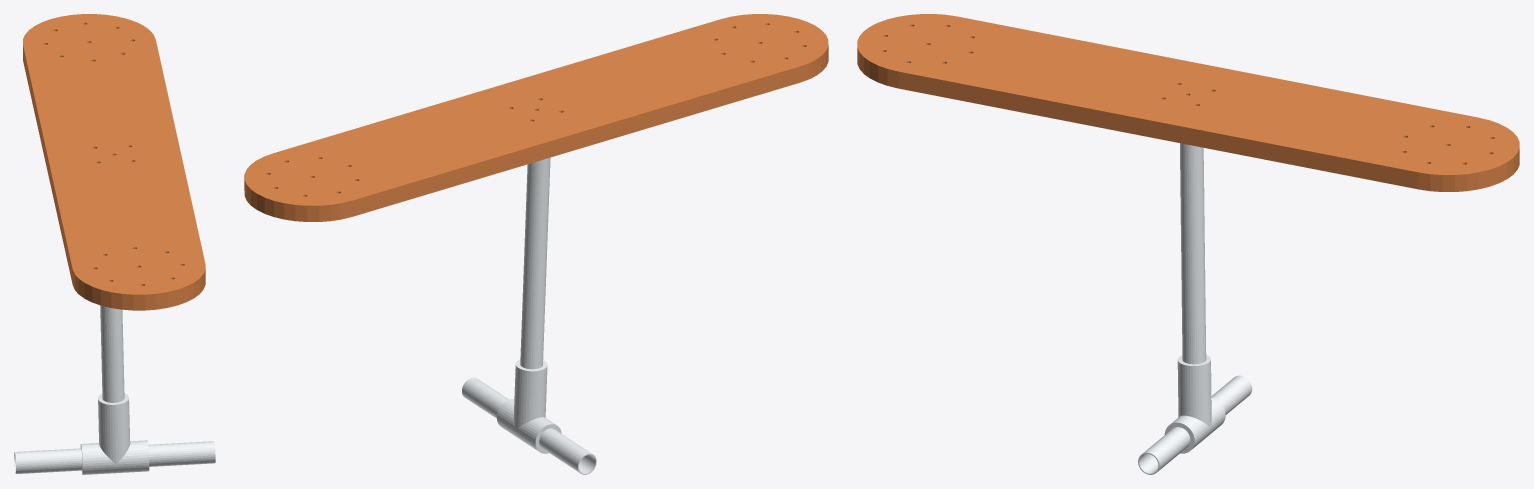
Rendered from pathmarker3.dae.
The picture shows the model from 3 angles, left to right: view 1: azimuth 30°, elevation 25°; view 2: azimuth 150°, elevation 25°; view 3: azimuth 270°, elevation 25°; orthographic projection. The views are drawn at different scales.
Parts seen in each view (by area): view 1: Path Marker - Tapa-2.001, Path Marker - Base-2.001; view 2: Path Marker - Tapa-2.001, Path Marker - Base-2.001; view 3: Path Marker - Tapa-2.001, Path Marker - Base-2.001.
Boxes of the visible parts, x1,y1,x2,y2 form: Path Marker - Tapa-2.001: (23,14,205,310); Path Marker - Base-2.001: (14,305,215,474); Path Marker - Tapa-2.001: (244,14,828,221); Path Marker - Base-2.001: (462,157,596,474); Path Marker - Tapa-2.001: (857,14,1519,191); Path Marker - Base-2.001: (1138,143,1252,474).
Bounding box in the file's own units: 0.4062 × 0.7059 × 0.4051.
